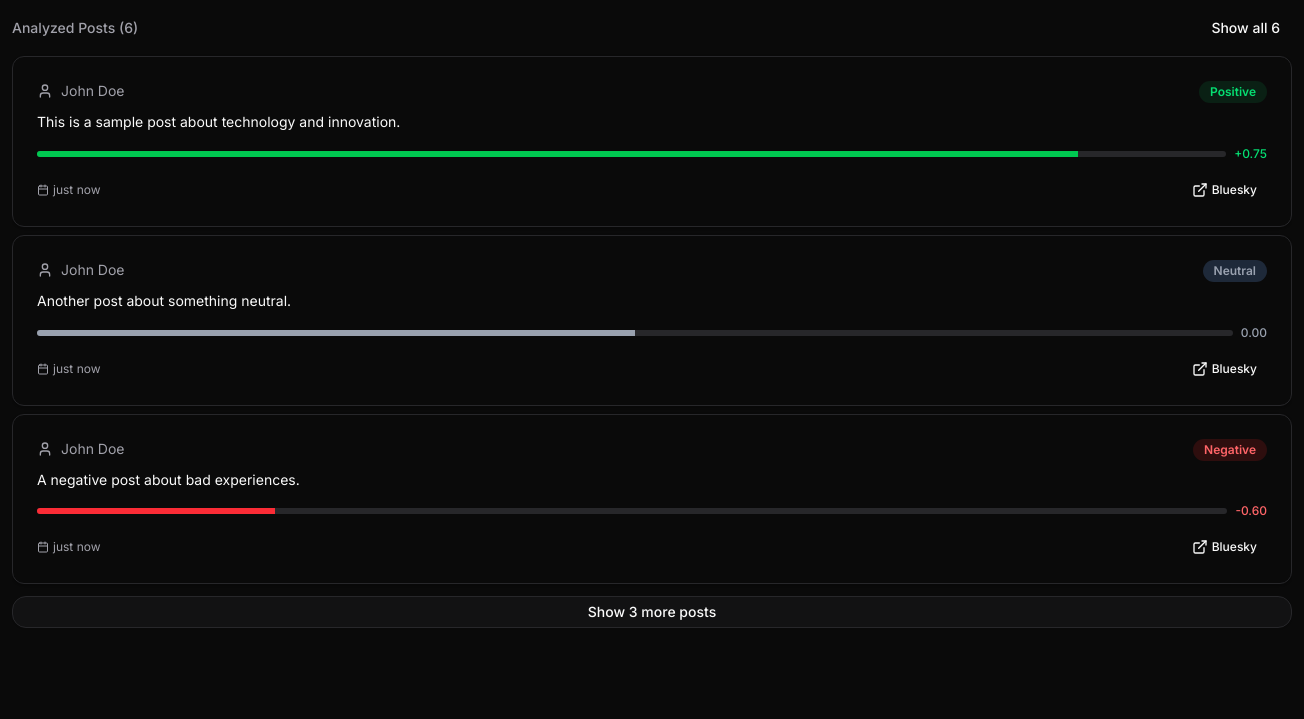
Test: Post Card Components › PostsList › shows "Show less" after expanding
Click the button "Show all 6" at (1246, 28), box [1199,12,1292,44]
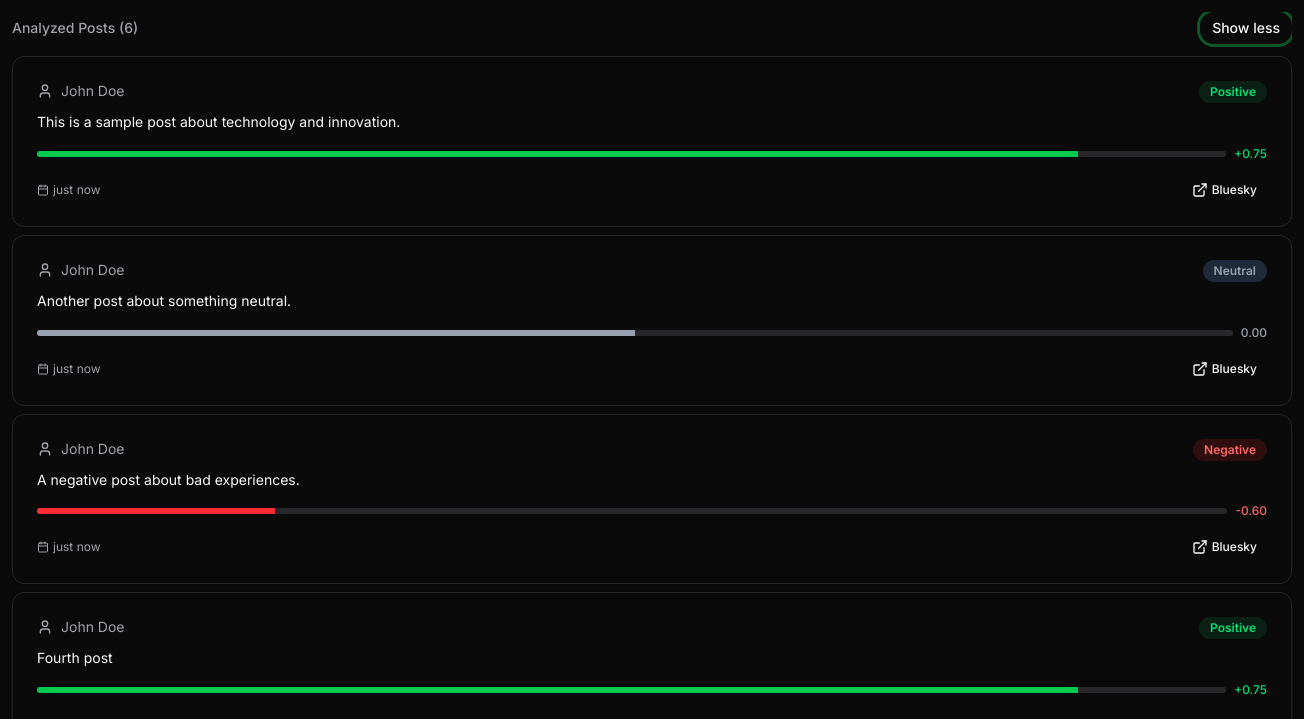
Expected: the button "Show less" is shown, [1200,12,1292,44]
